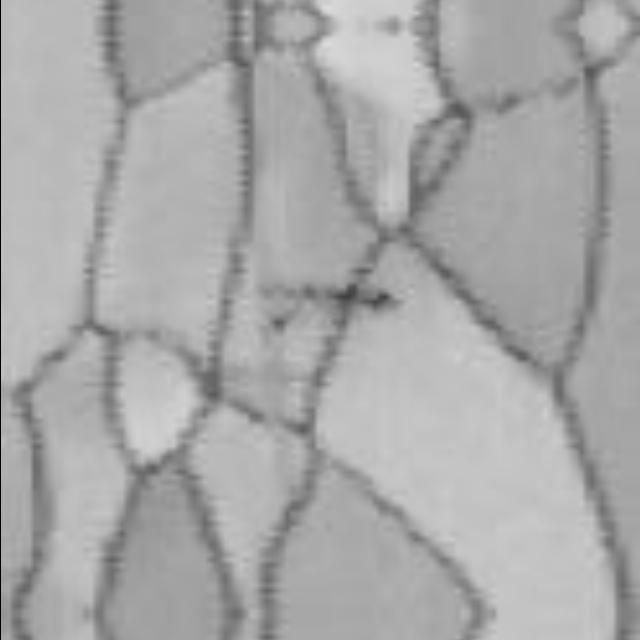good_void: (299, 295, 397, 310), (268, 321, 289, 331)
